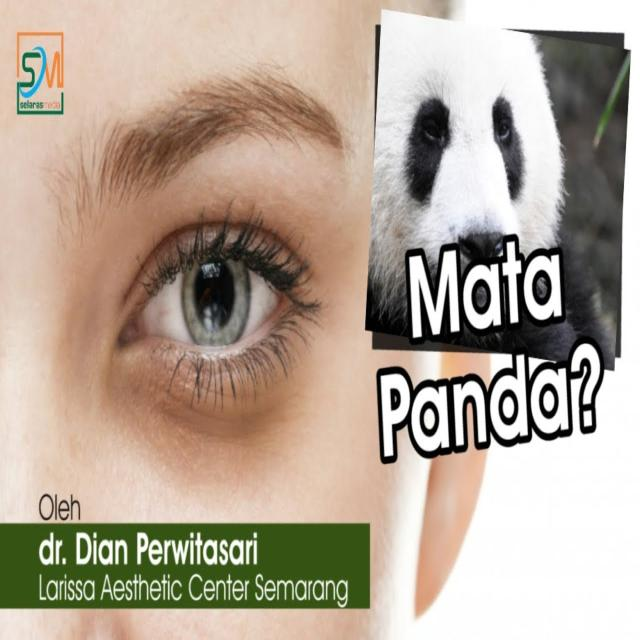Eyebags: (98, 304, 314, 496)
